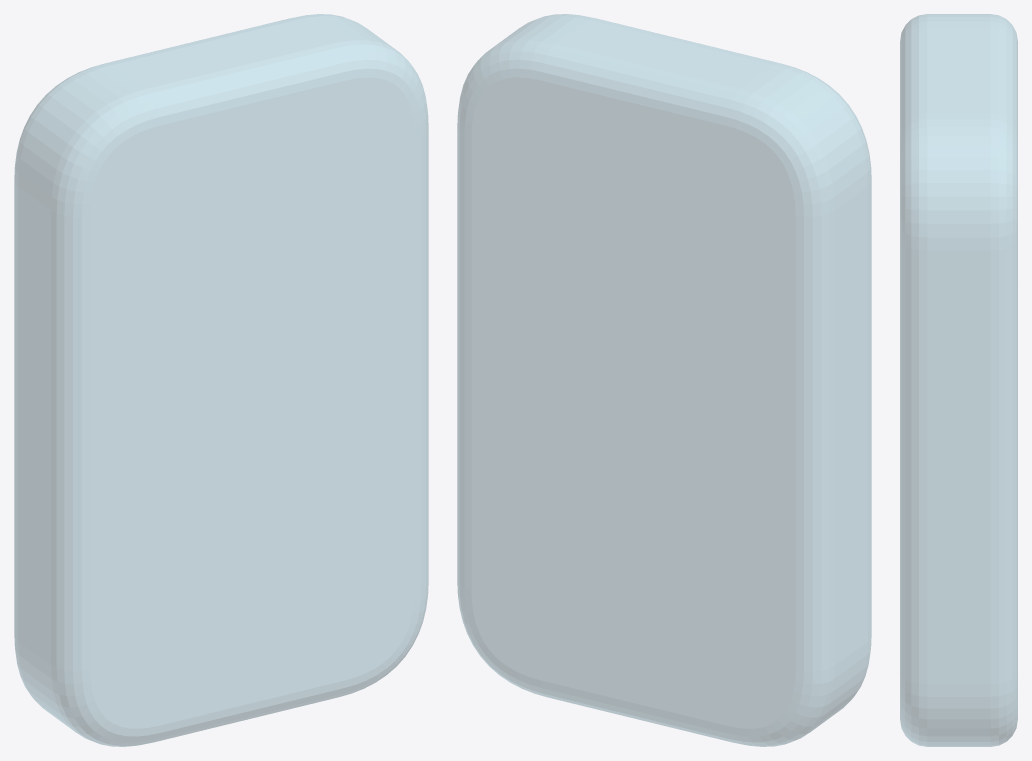
3 views of the same model, side by side, from view 1: azimuth 30°, elevation 25°; view 2: azimuth 150°, elevation 25°; view 3: azimuth 270°, elevation 25° (orthographic). The views are drawn at different scales.
Visible parts, largest first — view 1: panel; view 2: panel; view 3: panel.
Part boxes in pixels (x1,y1,x2,y2): panel: [14, 14, 428, 746]; panel: [457, 14, 871, 746]; panel: [900, 14, 1017, 746].
Size of the model in its own units: 1.5 by 2.5 by 0.43.
